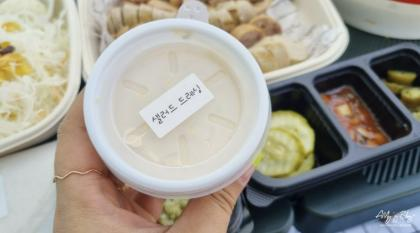Lunch Box: (246, 43, 419, 205), (77, 0, 348, 82), (0, 0, 81, 155)
cup: (83, 1, 270, 198)
